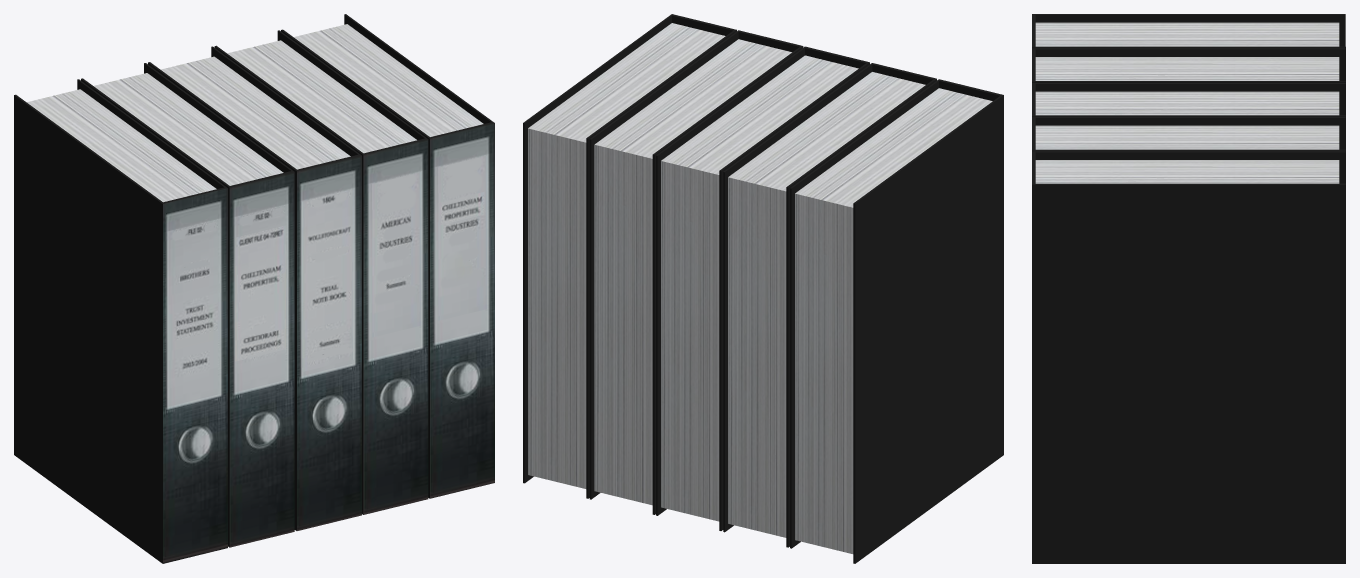
File: Files 2.FBX
3 renders of one model, left to right at view 1: azimuth 30°, elevation 25°; view 2: azimuth 150°, elevation 25°; view 3: azimuth 270°, elevation 25°, orthographic. The views are drawn at different scales.
Parts seen in each view (by area): view 1: File 1, File 3, File 2, File 4, File 5; view 2: File 1, File 3, File 2, File 4, File 5; view 3: File 5, File 1, File 2, File 4, File 3.
Boxes of the visible parts, x1,y1,x2,y2 form: File 1: (14, 79, 227, 563); File 3: (148, 46, 361, 530); File 2: (81, 63, 294, 547); File 4: (214, 30, 428, 514); File 5: (281, 14, 494, 498); File 1: (790, 79, 1003, 563); File 3: (656, 46, 869, 530); File 2: (723, 63, 936, 547); File 4: (589, 30, 803, 514); File 5: (523, 14, 736, 498); File 5: (1032, 151, 1345, 563); File 1: (1032, 14, 1345, 80); File 2: (1032, 48, 1345, 114); File 4: (1032, 117, 1345, 183); File 3: (1032, 83, 1345, 149).
Bounding box in the file's own units: 33 × 34.2 × 25.64.
1 material, 1 textured.
